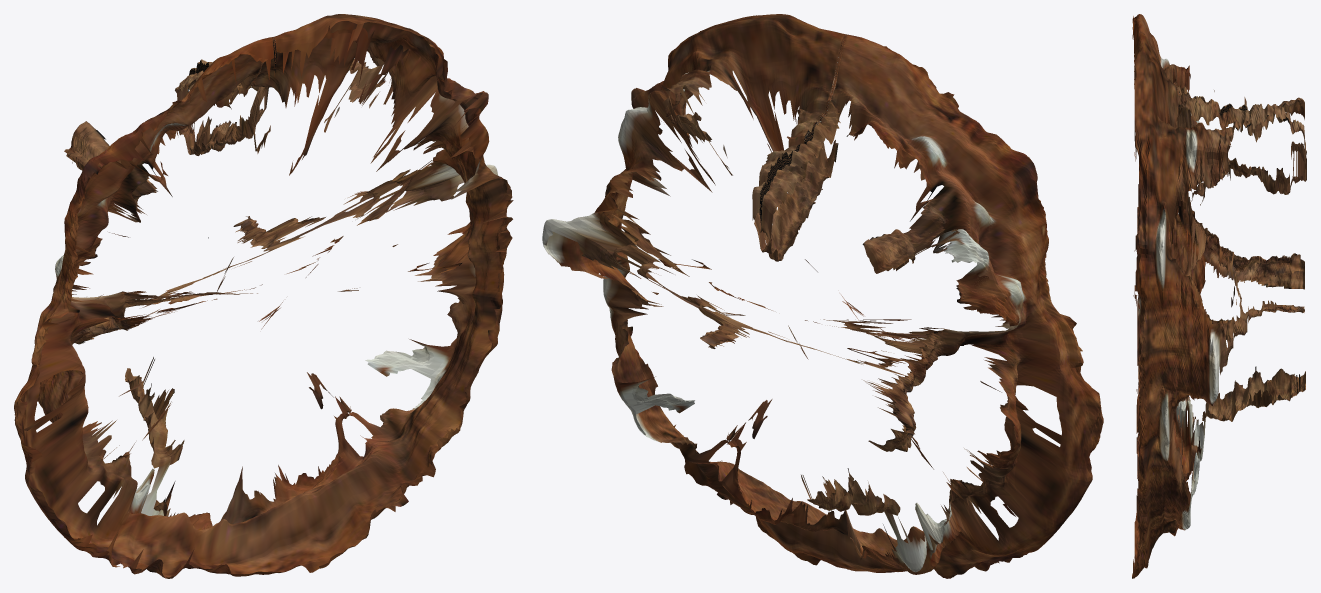
3 renders of one model, left to right at view 1: azimuth 30°, elevation 25°; view 2: azimuth 150°, elevation 25°; view 3: azimuth 270°, elevation 25°, orthographic. The views are drawn at different scales.
Visible parts, largest first — view 1: geometry_0; view 2: geometry_0; view 3: geometry_0.
Boxes of the visible parts, <box> form: geometry_0: <box>14,14,513,578</box>; geometry_0: <box>542,14,1103,578</box>; geometry_0: <box>1132,14,1306,578</box>.
Bounding box in the file's own units: 1.94 × 1.94 × 0.5783.
Materials: 1 (1 with a texture image).
